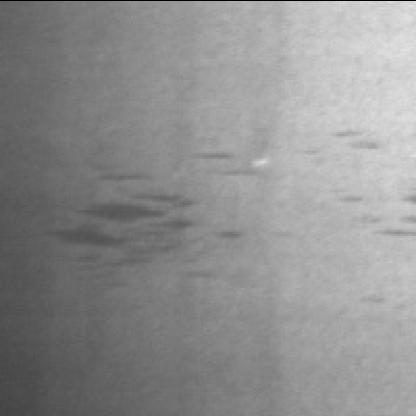inclusion: (44, 175, 250, 283)
